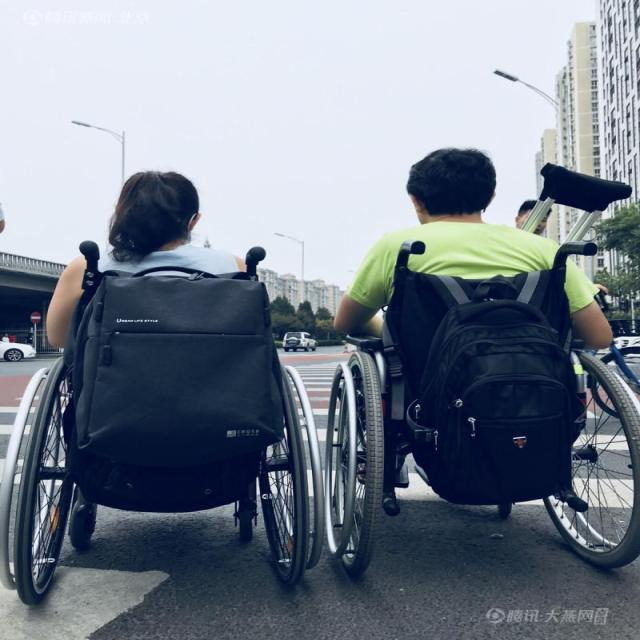wheelchairs: (6, 231, 329, 613), (325, 228, 640, 588)
